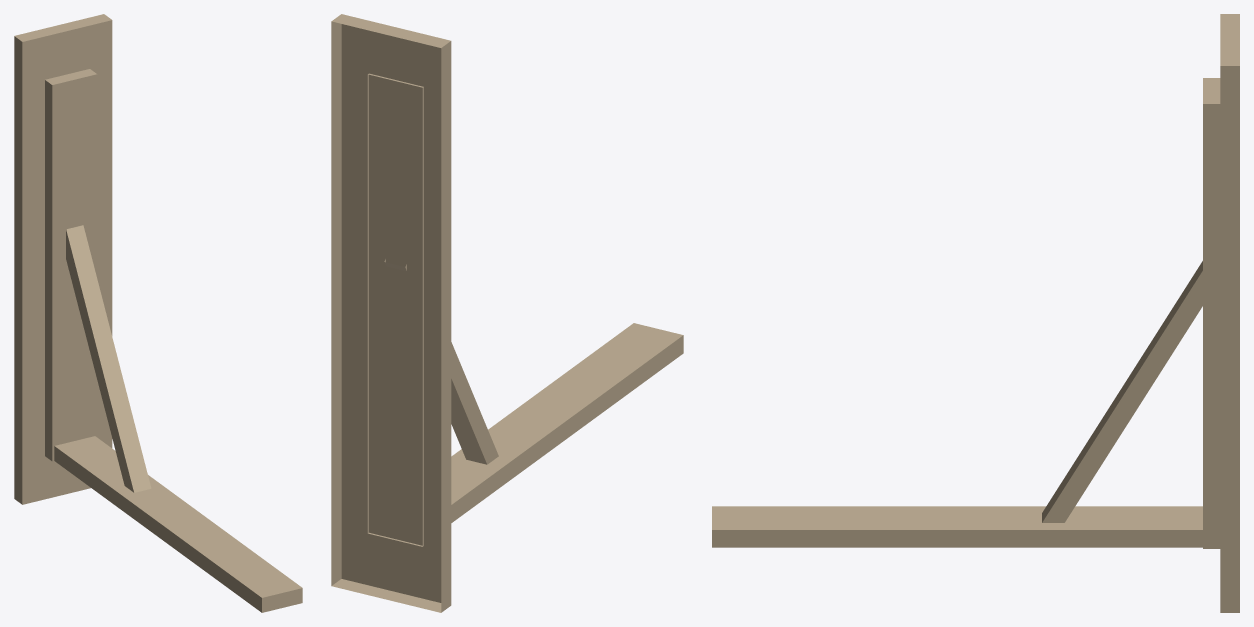
The model's file is pipe holder.FBX.
3 views of the same model, side by side, from view 1: azimuth 30°, elevation 25°; view 2: azimuth 150°, elevation 25°; view 3: azimuth 270°, elevation 25° (orthographic). The views are drawn at different scales.
Parts seen in each view (by area): view 1: pipe hldr; view 2: pipe hldr; view 3: pipe hldr.
Part boxes in pixels (bbox=[...]): pipe hldr: bbox=[14, 14, 302, 612]; pipe hldr: bbox=[331, 14, 683, 612]; pipe hldr: bbox=[712, 14, 1239, 612].
Size of the model in its own units: 0.1823 by 0.8965 by 0.7837.
